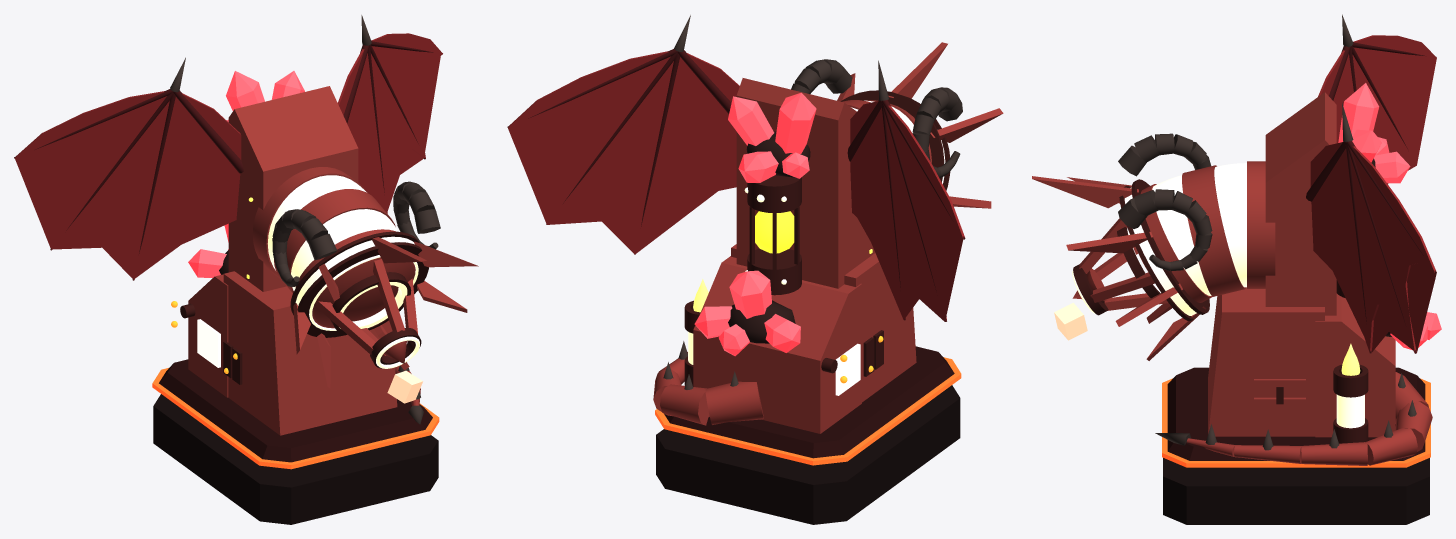
Rendered from CrimsonDrakeMine_Roblox.fbx.
3 renders of one model, left to right at view 1: azimuth 30°, elevation 25°; view 2: azimuth 150°, elevation 25°; view 3: azimuth 270°, elevation 25°, orthographic. The views are drawn at different scales.
Visible parts, largest first — view 1: Stone, WingMembrane, Black, DarkMarble, Neon, CharredIron, Horn, WingBone, EmberTrim, Crystal, Screen, Ore; view 2: WingMembrane, Stone, Black, Crystal, DarkMarble, CharredIron, Horn, WingBone, EmberTrim, Rock, Magma, Screen (+1 smaller); view 3: Stone, WingMembrane, Black, Neon, Horn, DarkMarble, CharredIron, Crystal, WingBone, EmberTrim, Ore.
Part boxes in pixels (x1,y1,x2,y2): Stone: (188,86,478,435); WingMembrane: (14,33,442,280); Black: (153,394,438,524); DarkMarble: (159,359,432,462); Neon: (267,175,419,368); CharredIron: (180,231,428,384); Horn: (170,15,440,424); WingBone: (14,40,433,280); EmberTrim: (152,368,439,469); Crystal: (188,71,304,277); Screen: (197,319,220,367); Ore: (387,370,422,403); WingMembrane: (508,51,964,321); Stone: (653,42,1003,433); Black: (656,385,960,524); Crystal: (694,92,816,356); DarkMarble: (664,346,954,458); CharredIron: (684,90,950,386); Horn: (663,15,962,389); WingBone: (507,49,965,321); EmberTrim: (655,357,961,465); Rock: (728,131,810,343); Magma: (755,211,794,253); Screen: (835,343,860,395); Stone: (1032,92,1432,465); WingMembrane: (1310,35,1436,353); Black: (1163,458,1429,524); Neon: (1072,163,1364,428); Horn: (1118,14,1416,450); DarkMarble: (1167,367,1425,460); CharredIron: (1073,179,1387,443); Crystal: (1338,83,1441,349); WingBone: (1306,42,1436,353); EmberTrim: (1162,378,1430,467); Ore: (1054,302,1087,340).
Bounding box in the file's own units: 2161 × 2020 × 1734.
